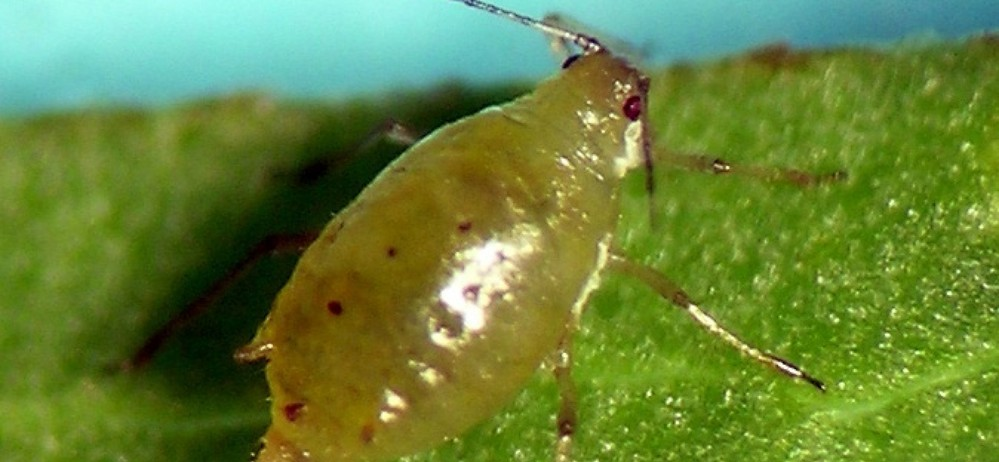Pulgon: (231, 4, 836, 455)
